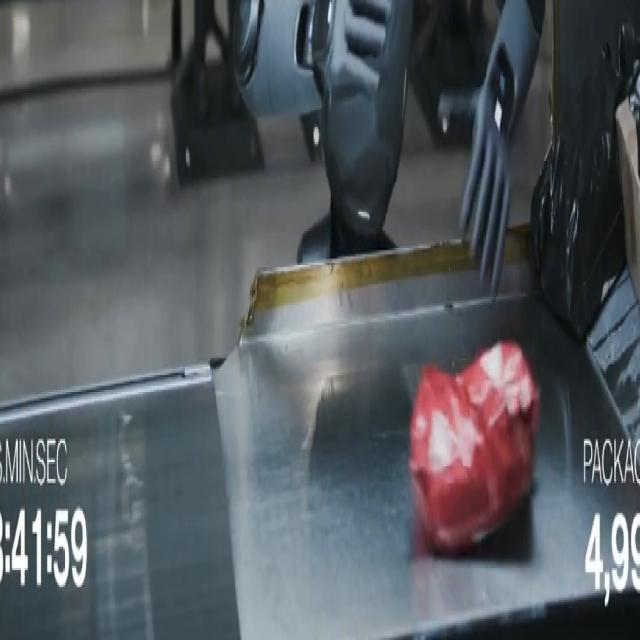package: (530, 26, 639, 343), (409, 344, 539, 555), (617, 64, 639, 298)
